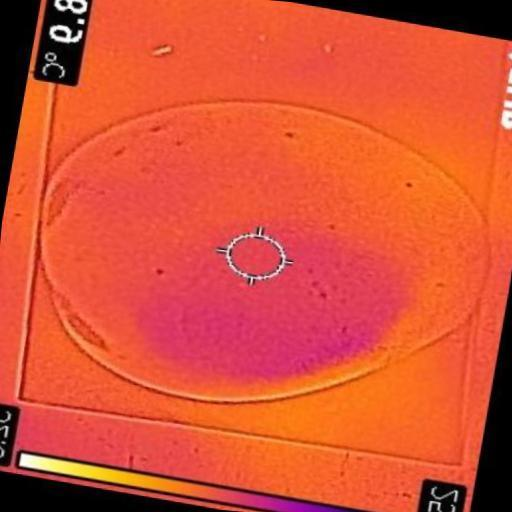alphanso: (42, 103, 487, 401)
